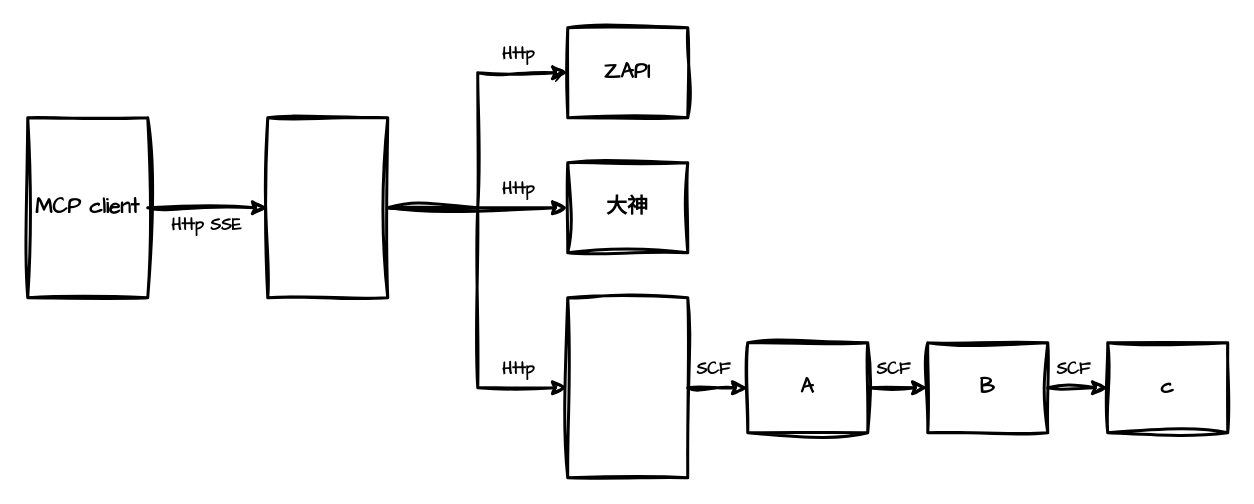
This 1254x504 diagram has some shape labels left out. Here are the shapes that lost their labels. From the top down, the centre of each, then its label:
At (x=327, y=207): "MCP网关 (Higress)".
At (x=627, y=387): "API网关".
